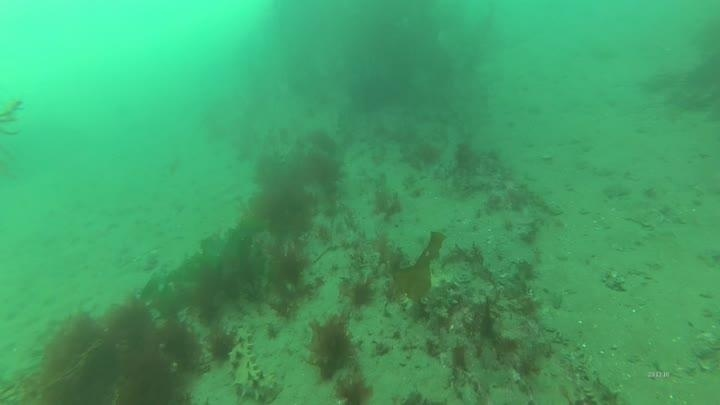holothurian: (225, 325, 280, 403), (581, 374, 622, 403)
